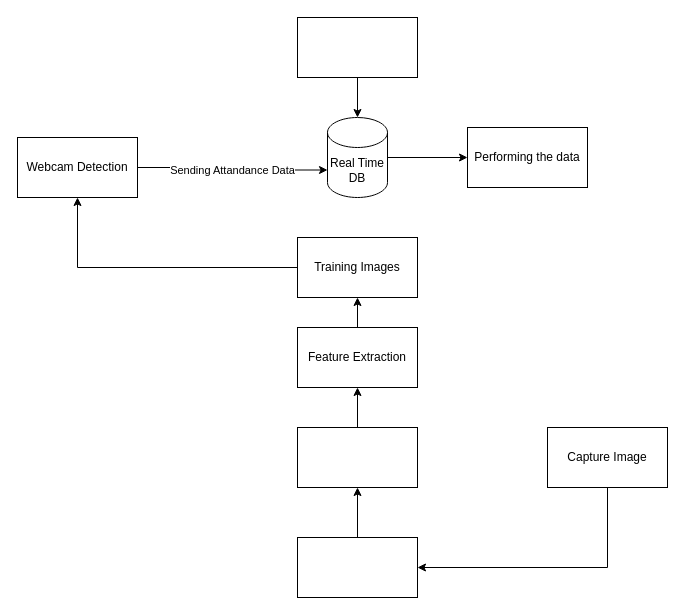
The diagram is 685 pixels wide and 615 high, and some of its shapes have lost their labels. The shapes that lost their labels are listed below. From the top down, each one's box as (x1, y1, x2, y2) in pixels, then its label:
(296, 16, 418, 78): Creating new user
(296, 426, 418, 488): Data Processing
(296, 536, 418, 598): Folder Images
